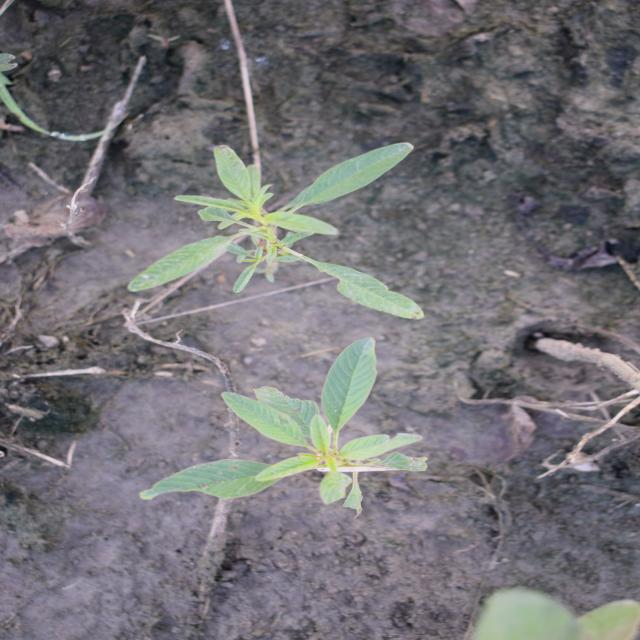Waterhemp: (124, 140, 428, 321), (135, 334, 434, 516)
